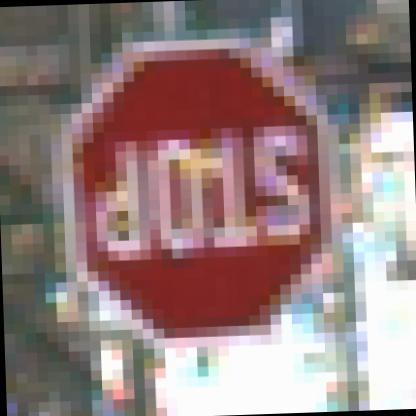stop: (38, 15, 369, 362)
